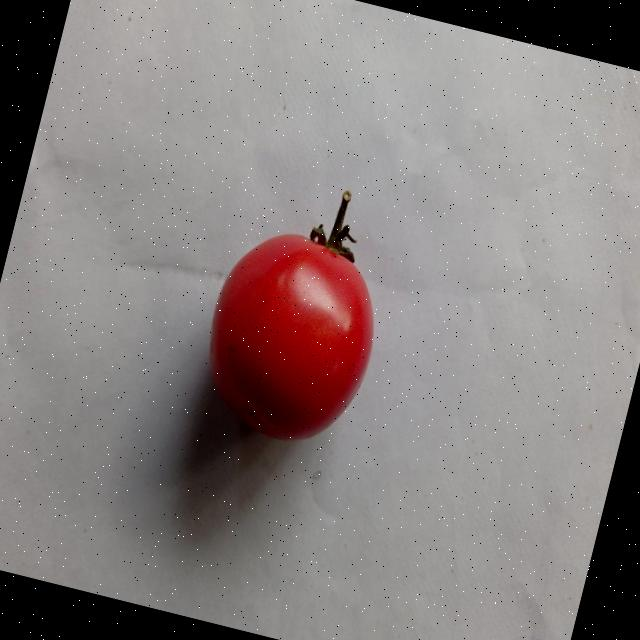Tomato: (180, 207, 402, 460)
